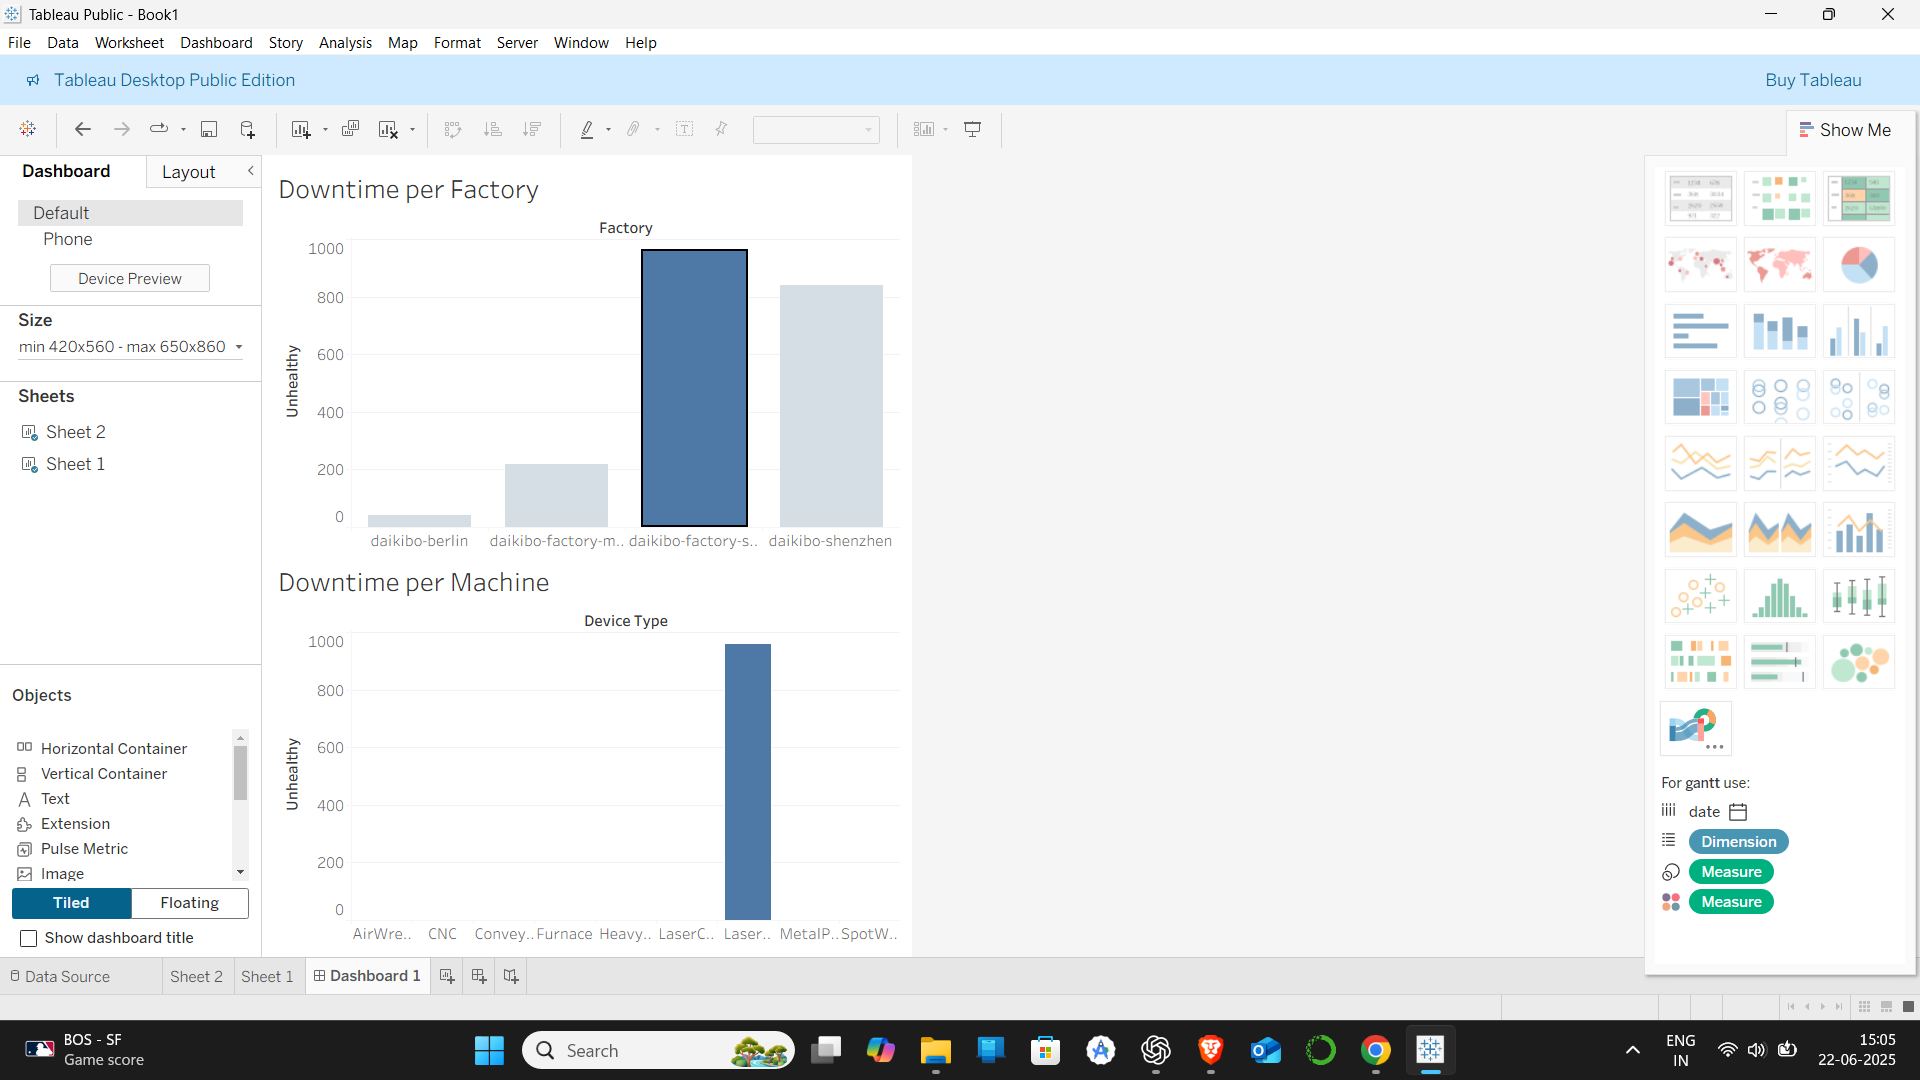

This screenshot's page, from the dashboard's own definition file:
{"tool":"tableau","page":{"name":"Dashboard 1","canvas":[650,860],"ordinal":0},"visuals":[{"type":"worksheet","title":"Sheet 1","mark":"Automatic","rows":["Calculation_890868324848197633"],"cols":["factory"],"box":[8,8.6,634,421.4]},{"type":"worksheet","title":"Sheet 2","mark":"Automatic","rows":["Calculation_890868324848197633"],"cols":["deviceType"],"box":[8,430,634,421.4]}]}

Visuals, with their boxes on the page's 650x860 design canvas (x1, y1, x2, y2). These are canvas units, not pixel positions in the 1920x1080 screenshot, which may show the page scaled, cropped or inside an application window:
"Sheet 1" worksheet: <region>8, 9, 642, 430</region>
"Sheet 2" worksheet: <region>8, 430, 642, 851</region>
